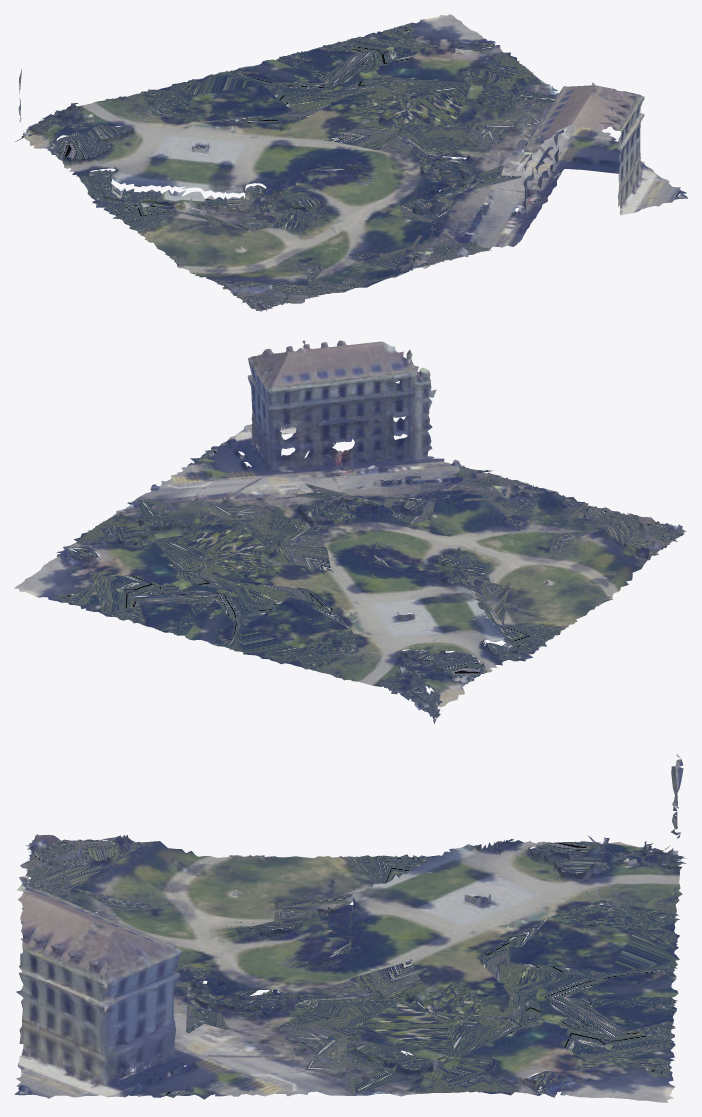
3 renders of one model, top to bottom at view 1: azimuth 30°, elevation 25°; view 2: azimuth 150°, elevation 25°; view 3: azimuth 270°, elevation 25°, orthographic. The views are drawn at different scales.
Bounding box in the file's own units: 104 × 30.68 × 104.
1 material, 1 textured.
